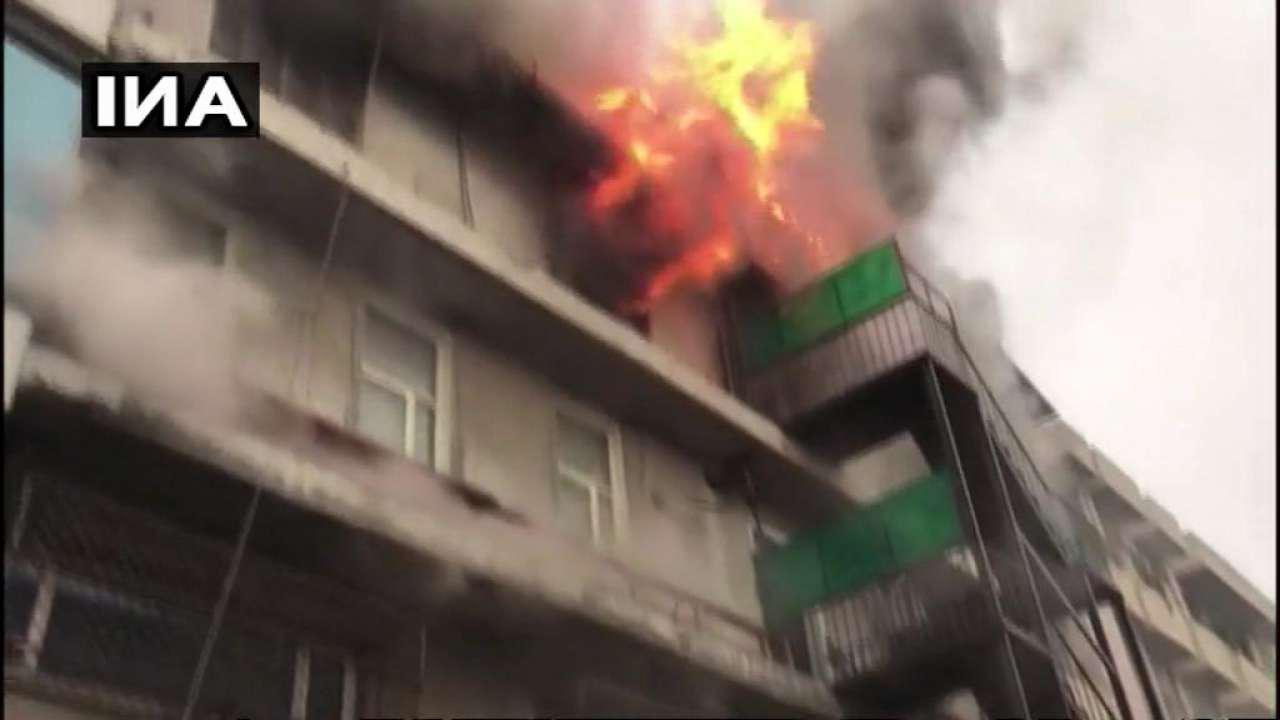fire: (604, 13, 828, 309)
